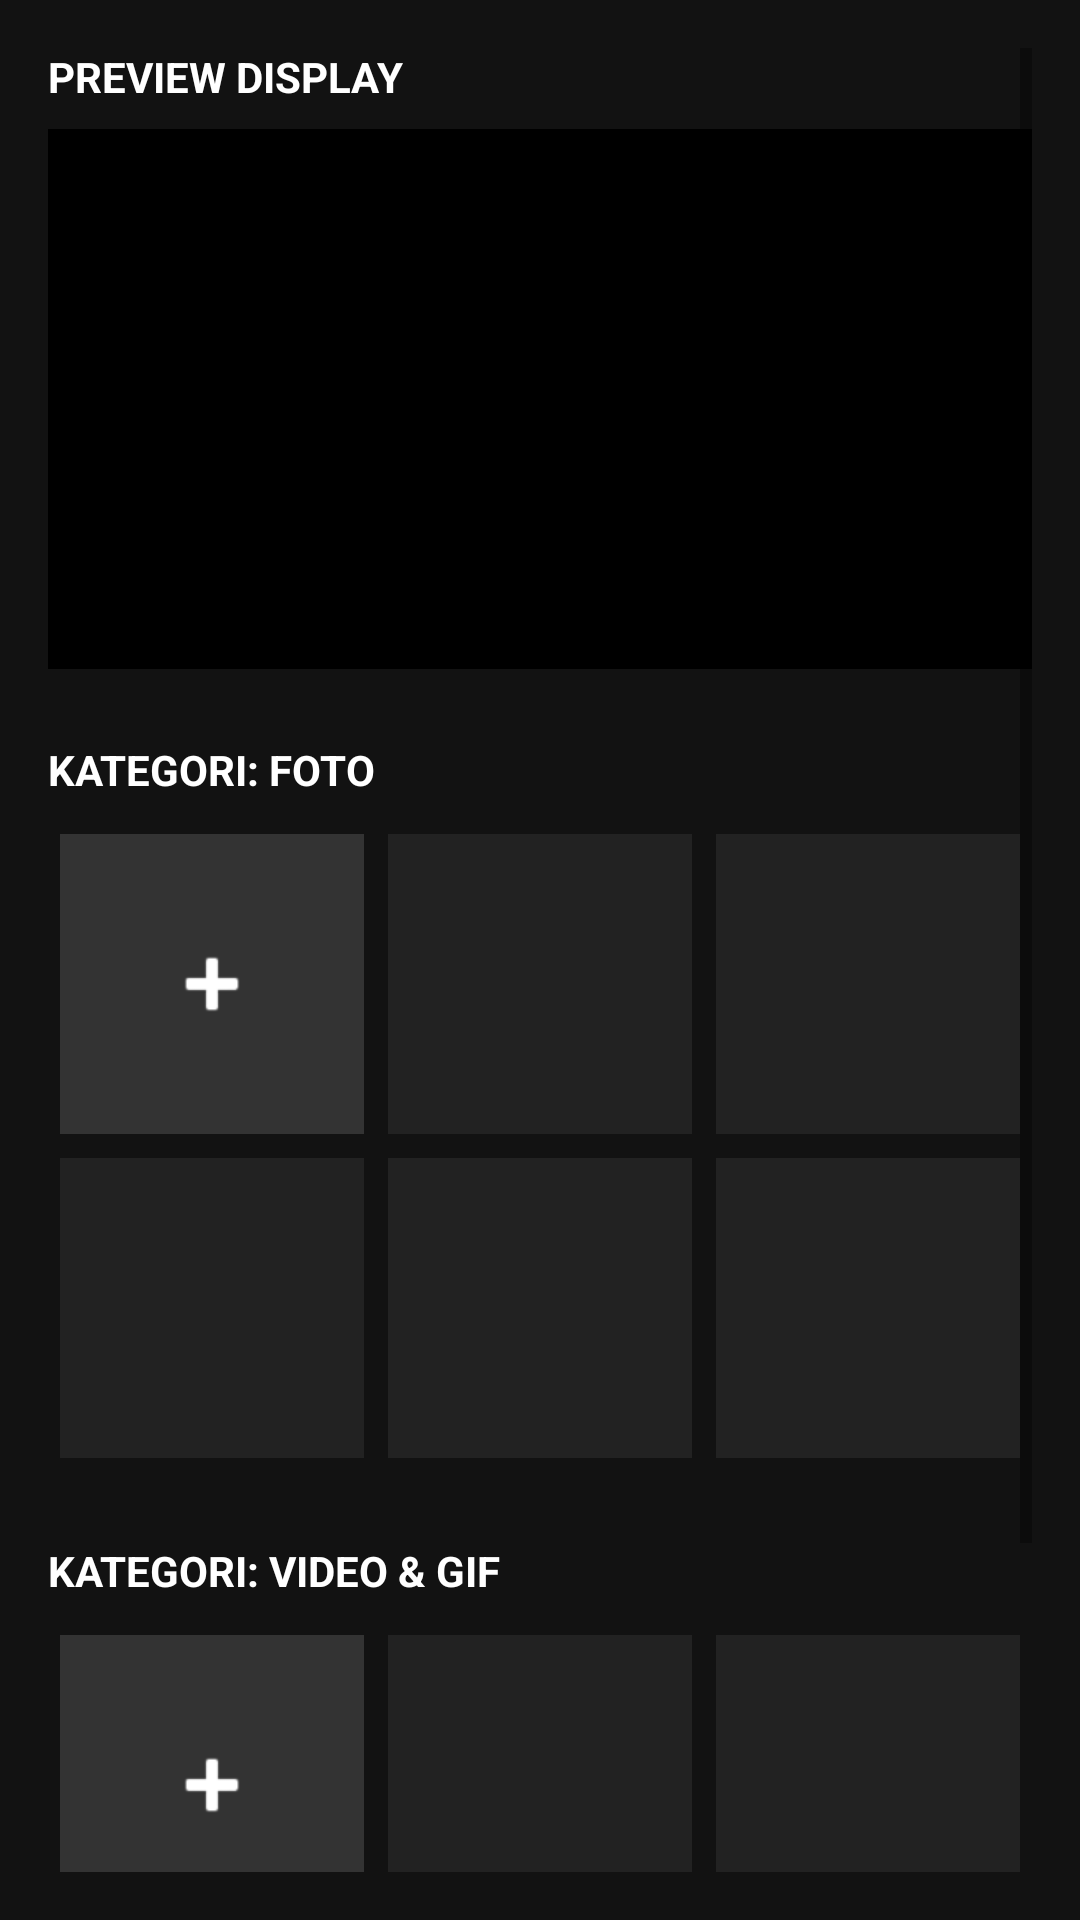

Named icons in this screenshot (1080px x 1920px) and their centers, (x=x, y=y):
add: (x=212, y=984), (x=212, y=1753)
